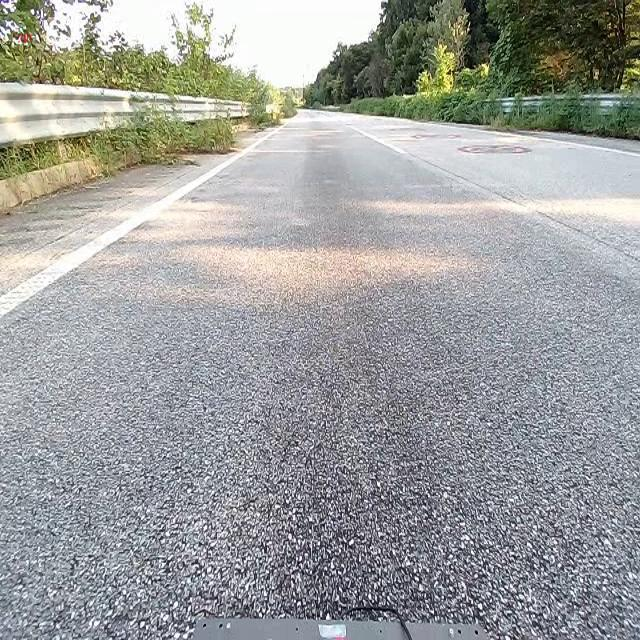Lane: (0, 122, 287, 318), (0, 129, 278, 319), (335, 100, 620, 267), (340, 113, 616, 249)
